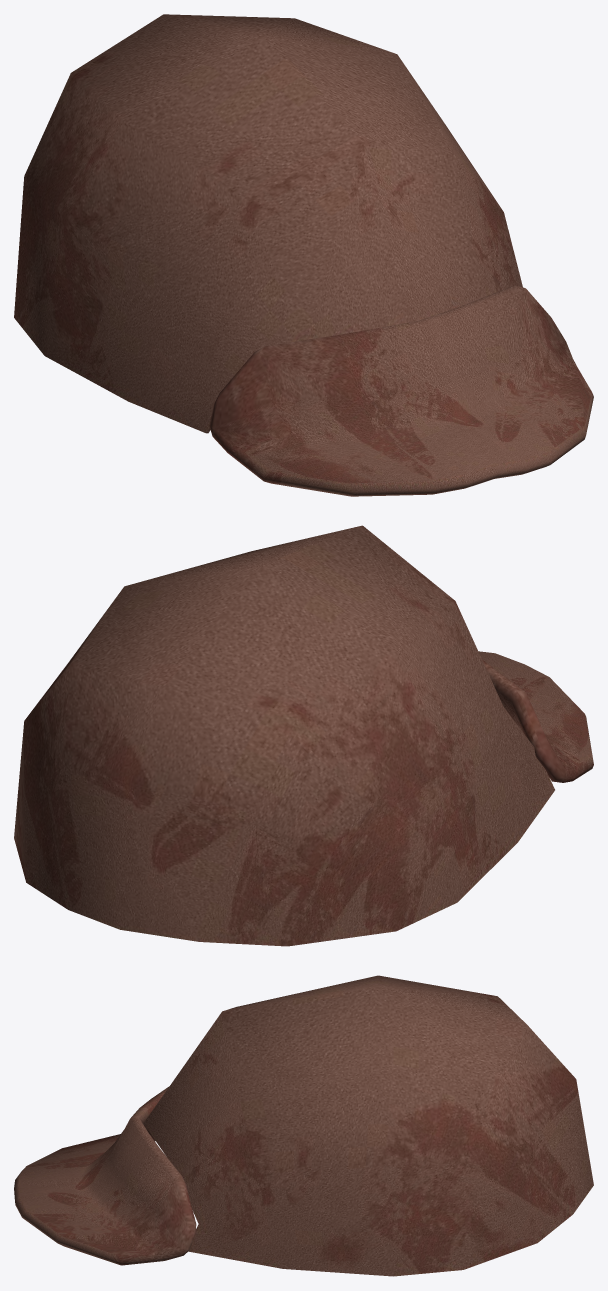
File: leather_cap.glb
The picture shows the model from 3 angles, top to bottom: view 1: azimuth 30°, elevation 25°; view 2: azimuth 150°, elevation 25°; view 3: azimuth 270°, elevation 25°; orthographic projection. The views are drawn at different scales.
Visible parts, largest first — view 1: hood.001_Plate.022; view 2: hood.001_Plate.022; view 3: hood.001_Plate.022.
Boxes of the visible parts, box(x1,y1,x2,y2) form: hood.001_Plate.022: box(14, 14, 593, 496); hood.001_Plate.022: box(14, 525, 593, 946); hood.001_Plate.022: box(14, 975, 593, 1276).
Size of the model in its own units: 0.7697 by 0.5095 by 1.22.
1 material, 1 textured.
